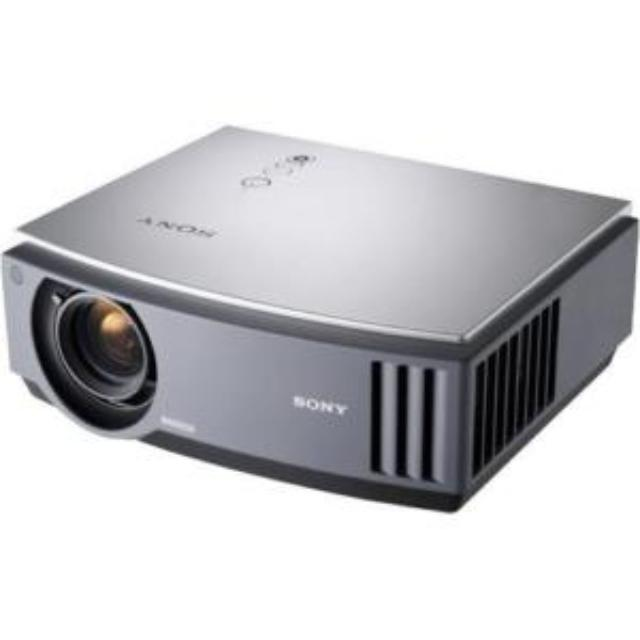Projector: (1, 124, 640, 520)
